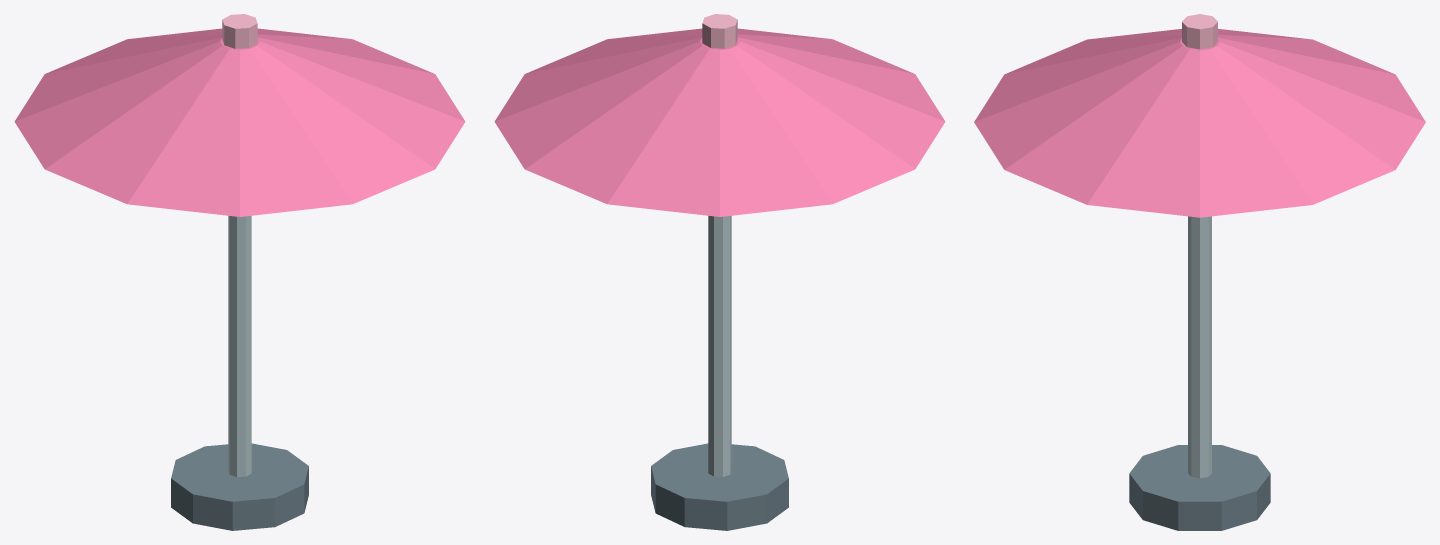
The model's file is FTF_Prop_PinkPatioUmbrella_2_7m.glb.
3 renders of one model, left to right at view 1: azimuth 30°, elevation 25°; view 2: azimuth 150°, elevation 25°; view 3: azimuth 270°, elevation 25°, orthographic.
Visible parts, largest first — view 1: FTF_Prop_PinkPatioUmbrella_2_7m_Mesh; view 2: FTF_Prop_PinkPatioUmbrella_2_7m_Mesh; view 3: FTF_Prop_PinkPatioUmbrella_2_7m_Mesh.
Boxes of the visible parts, bbox=[...] form: FTF_Prop_PinkPatioUmbrella_2_7m_Mesh: bbox=[14, 14, 465, 530]; FTF_Prop_PinkPatioUmbrella_2_7m_Mesh: bbox=[494, 14, 945, 530]; FTF_Prop_PinkPatioUmbrella_2_7m_Mesh: bbox=[974, 14, 1425, 530].
Size of the model in its own units: 2.24 by 2.63 by 2.24.
